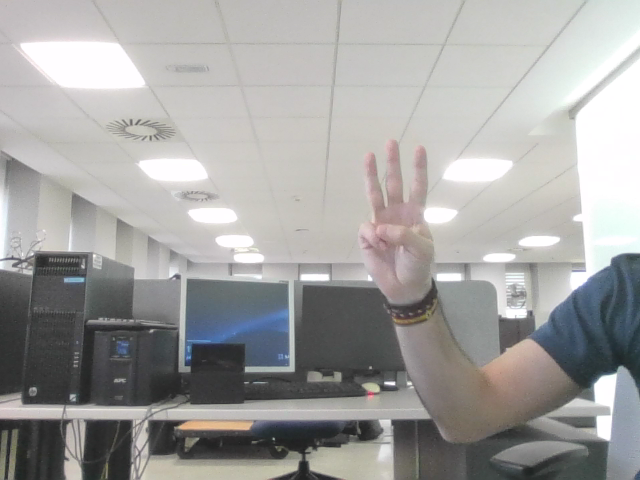3Dedos: (368, 151, 421, 269)
